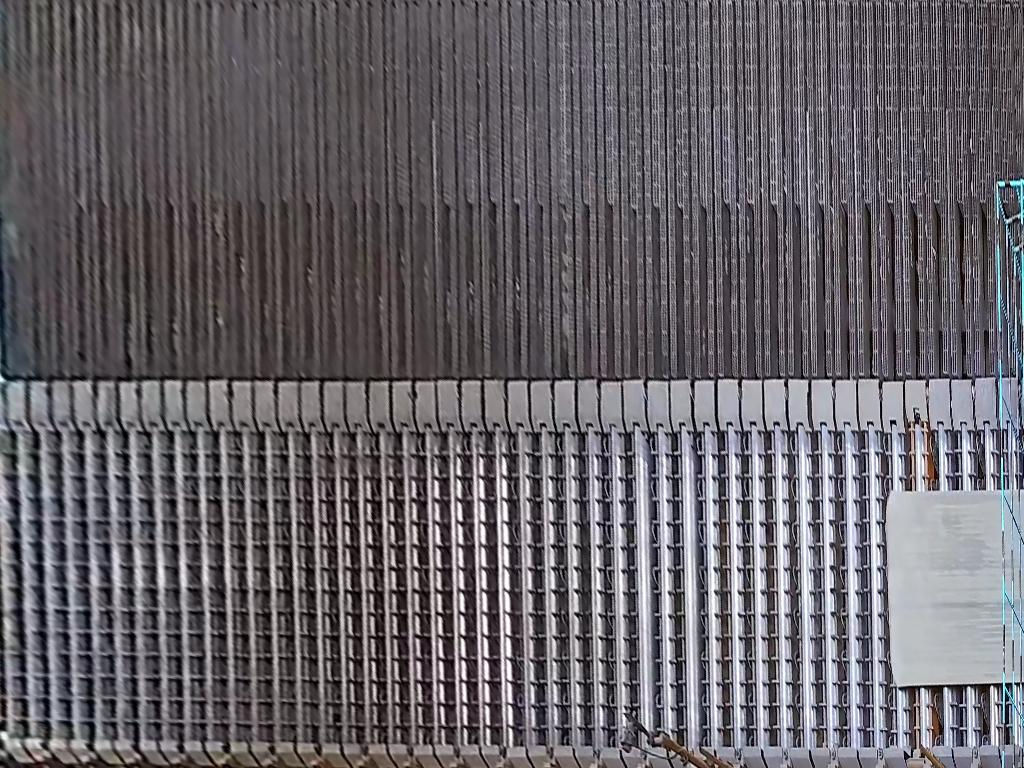steel: (884, 487, 1024, 689)
